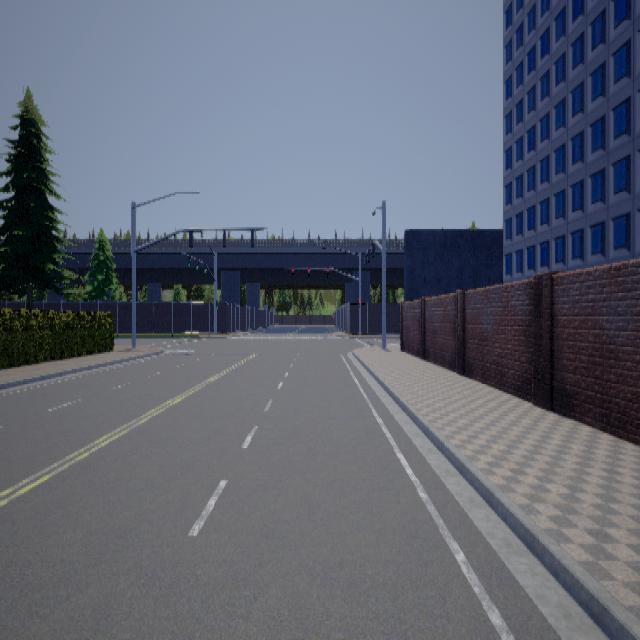red_light: (327, 266, 329, 276), (308, 266, 310, 276), (292, 266, 294, 276), (358, 299, 360, 307)
